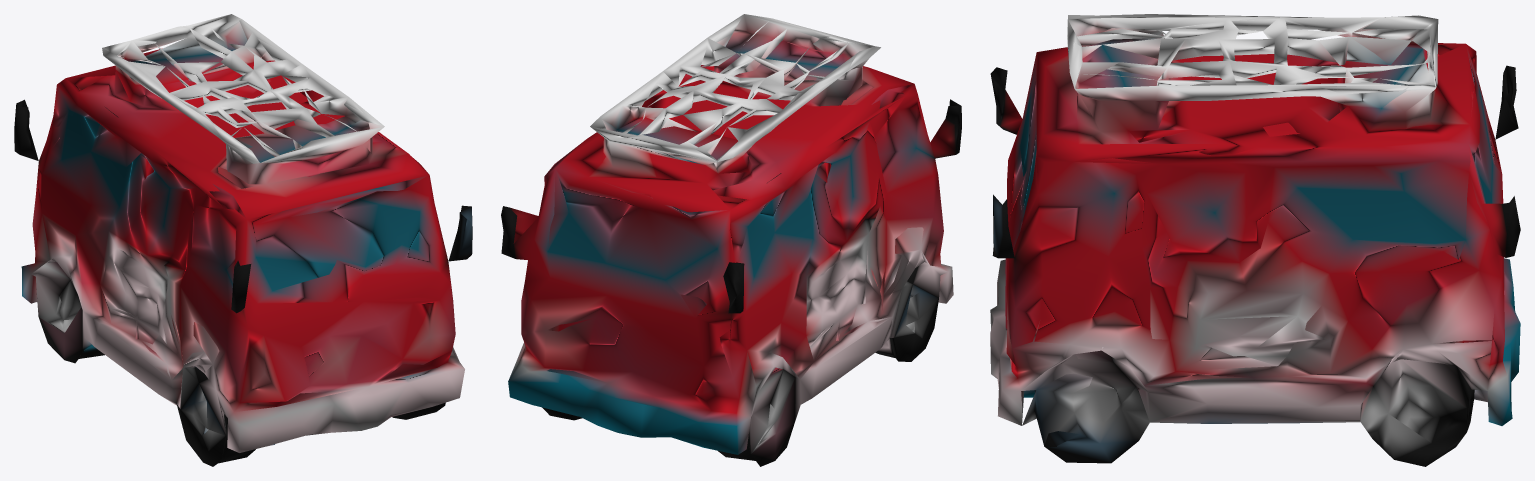
File: gen3d-fire-truck-lod0.glb
3 renders of one model, left to right at view 1: azimuth 30°, elevation 25°; view 2: azimuth 150°, elevation 25°; view 3: azimuth 270°, elevation 25°, orthographic. The views are drawn at different scales.
Parts seen in each view (by area): view 1: part_0; view 2: part_0; view 3: part_0.
Part boxes in pixels (left/top/right/bottom): part_0: left=14, top=14, right=472, bottom=466; part_0: left=501, top=14, right=961, bottom=466; part_0: left=990, top=14, right=1520, bottom=466.
Bounding box in the file's own units: 0.837 × 0.9991 × 1.35.
